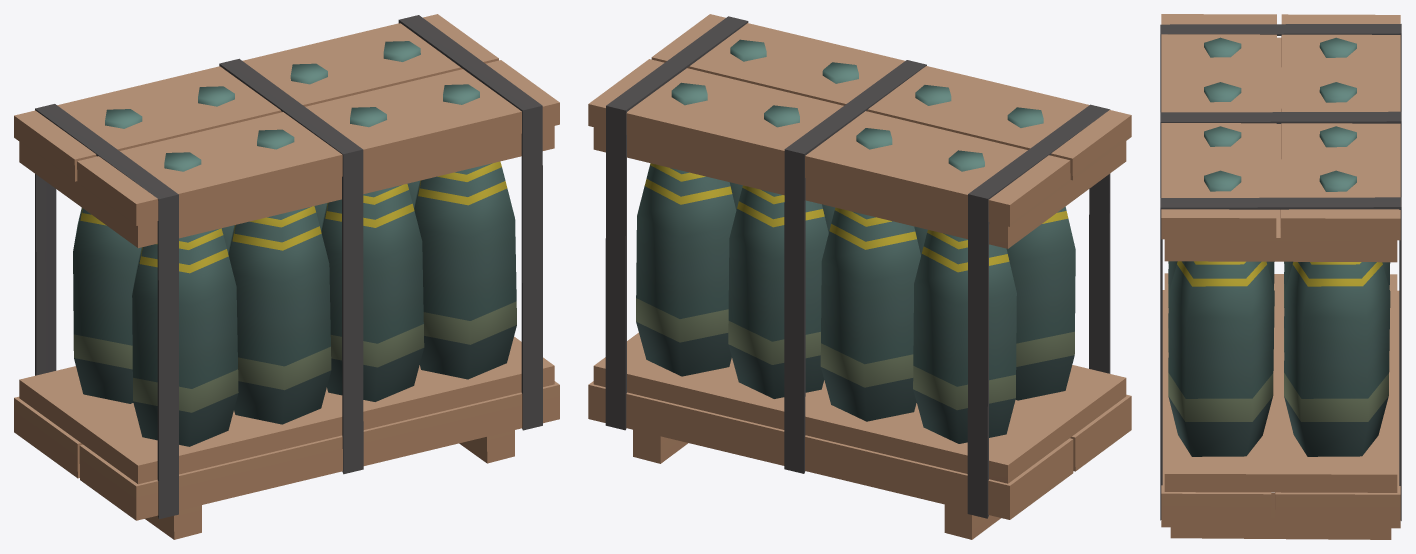
The model's file is WarHead_Crate.fbx.
3 renders of one model, left to right at view 1: azimuth 30°, elevation 25°; view 2: azimuth 150°, elevation 25°; view 3: azimuth 270°, elevation 25°, orthographic. The views are drawn at different scales.
Parts seen in each view (by area): view 1: WarHead_Crate; view 2: WarHead_Crate; view 3: WarHead_Crate.
Boxes of the visible parts, x1,y1,x2,y2 form: WarHead_Crate: (14, 14, 559, 539); WarHead_Crate: (588, 14, 1131, 539); WarHead_Crate: (1160, 14, 1401, 539).
Size of the model in its own units: 204 by 163 by 103.
